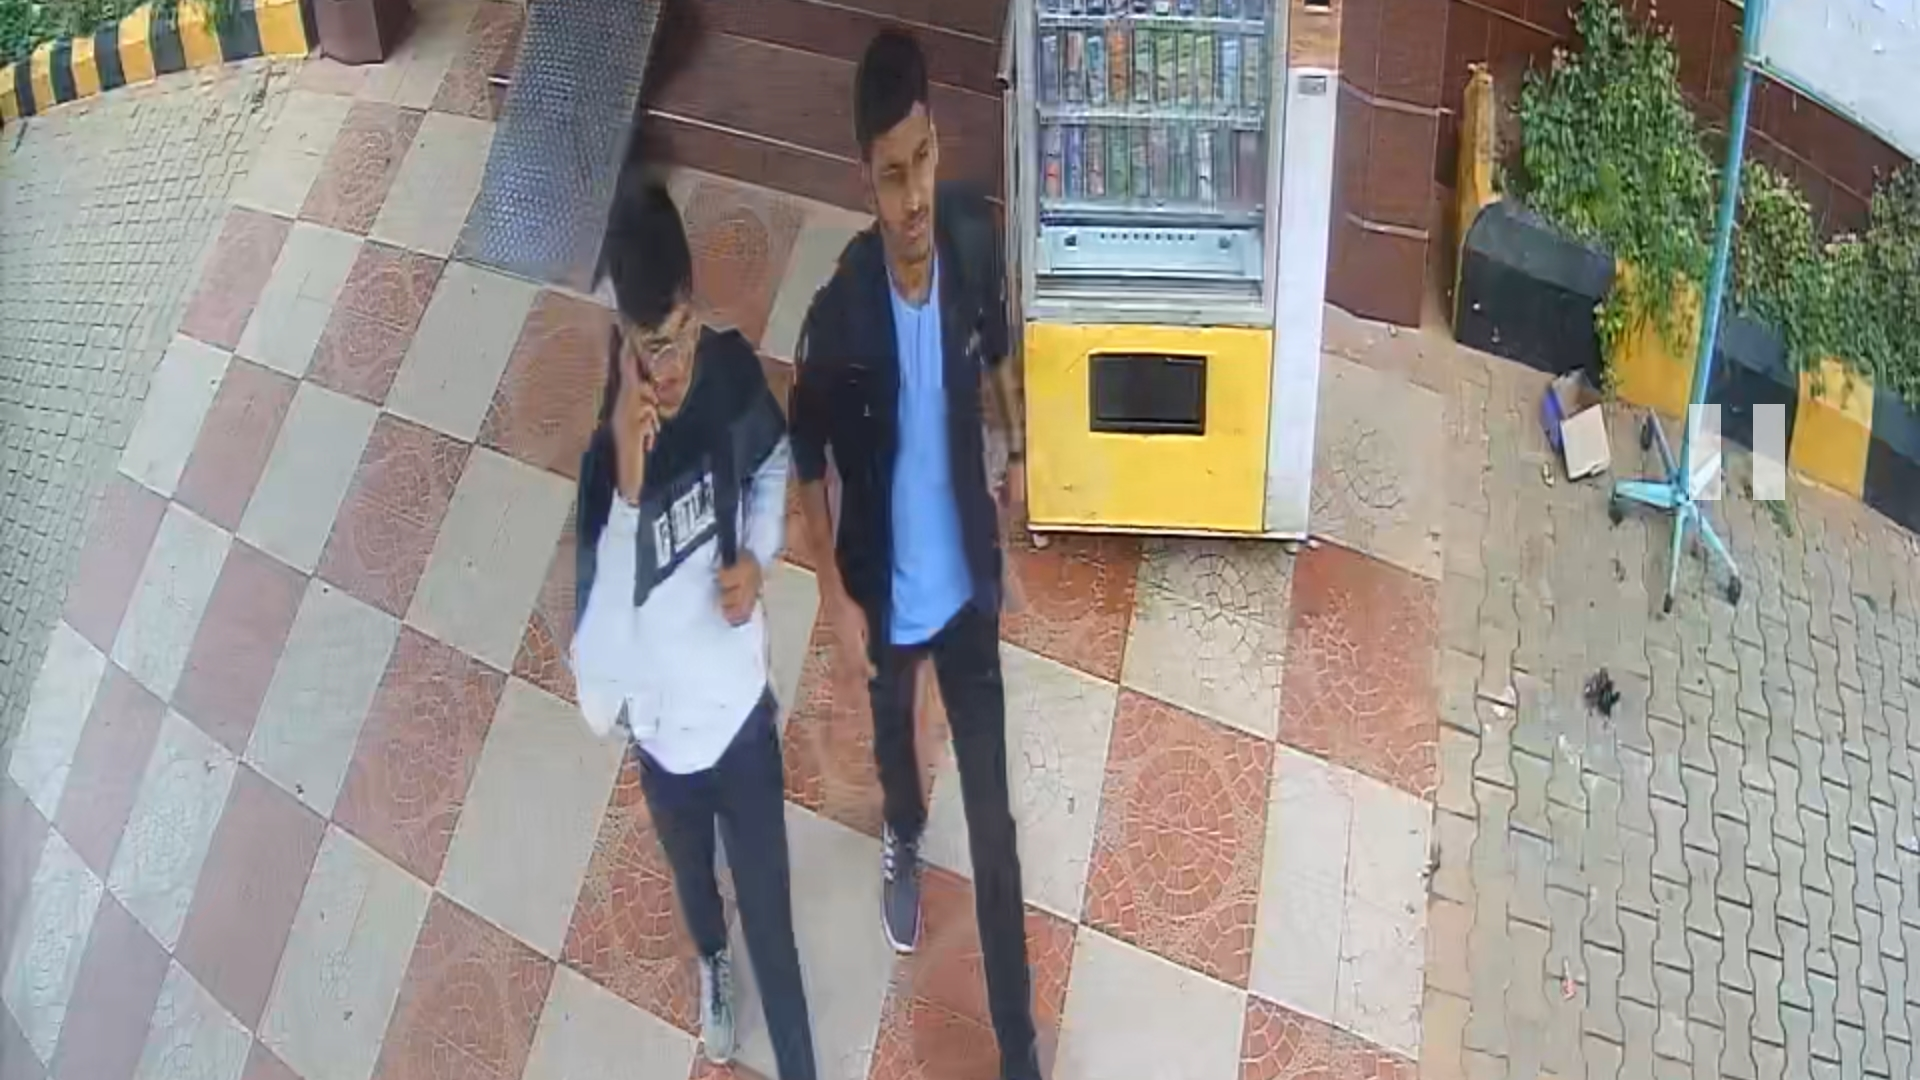intruder: (574, 171, 887, 1080), (822, 16, 1060, 1080)
